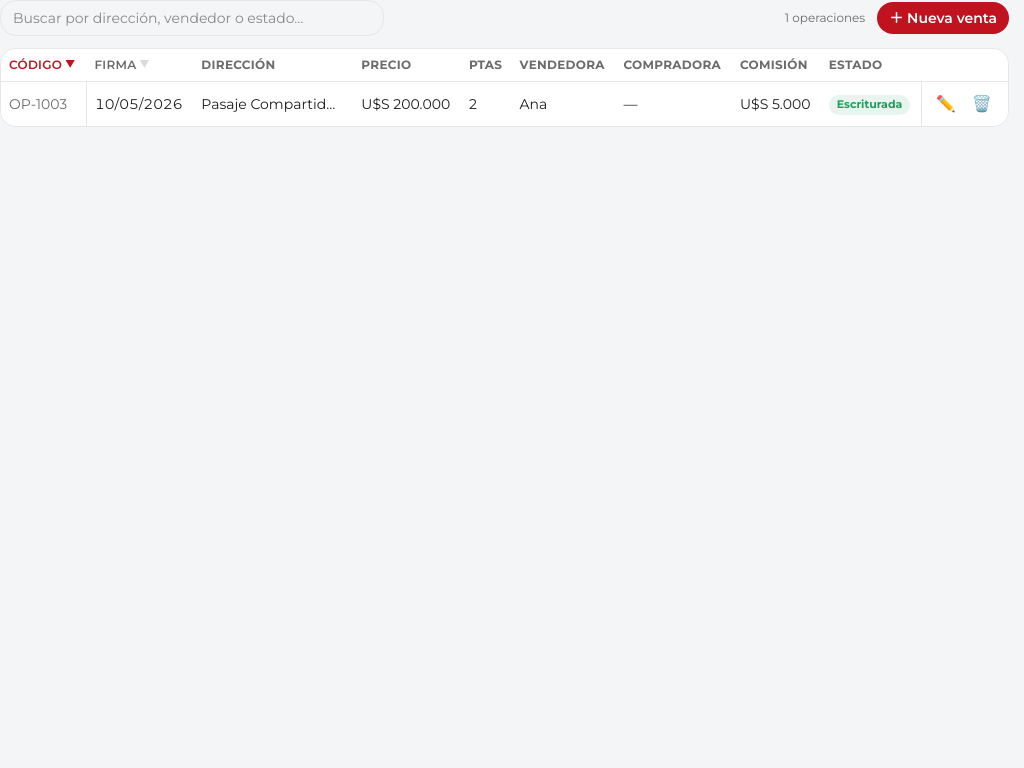
Test: OperacionesTable — editar y borrar con la venta completa › Editar pide la venta completa, y el formulario muestra las dos puntas
Step 1. Click the button named "Editar la venta OP-1003 (Pasaje Compartido 50)" → click(946, 104), box [930,90,962,118]
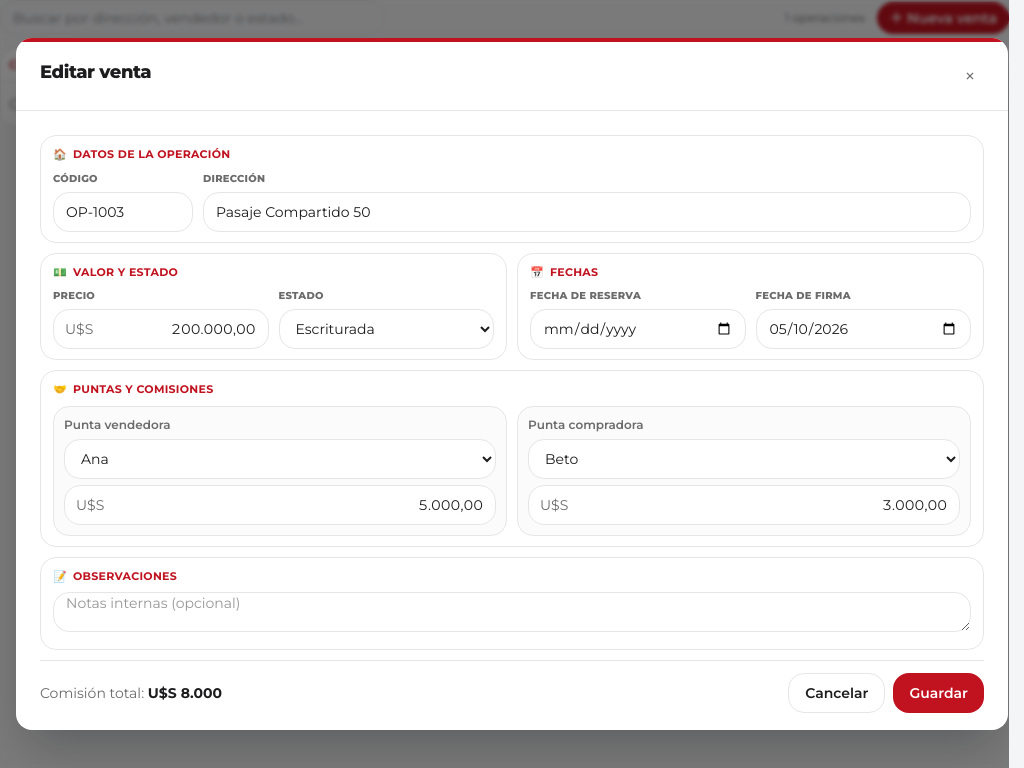
Expected: the dropdown showing "Ana" below "Punta vendedora" is shown, [64,439,496,479]
Expected: the dropdown showing "Beto" below "Punta compradora" is shown, [528,439,960,479]
Expected: the field named "Comisión de la punta compradora" holds "3.000,00", [528,485,960,525]
